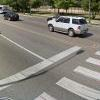cars: (47, 15, 90, 38)
